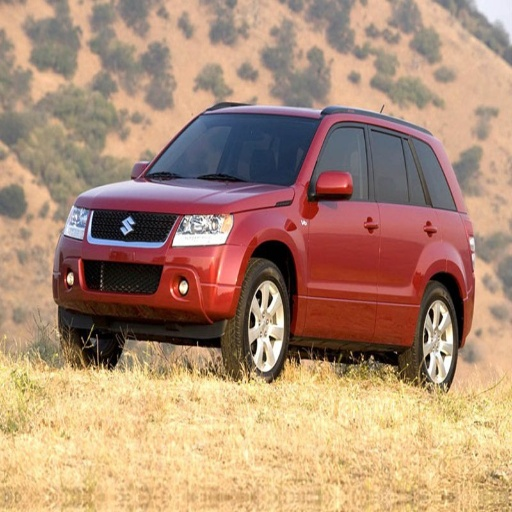front_bumper: (55, 208, 247, 321)
front_glass: (140, 112, 320, 186)
front_left_door: (303, 119, 380, 334)
